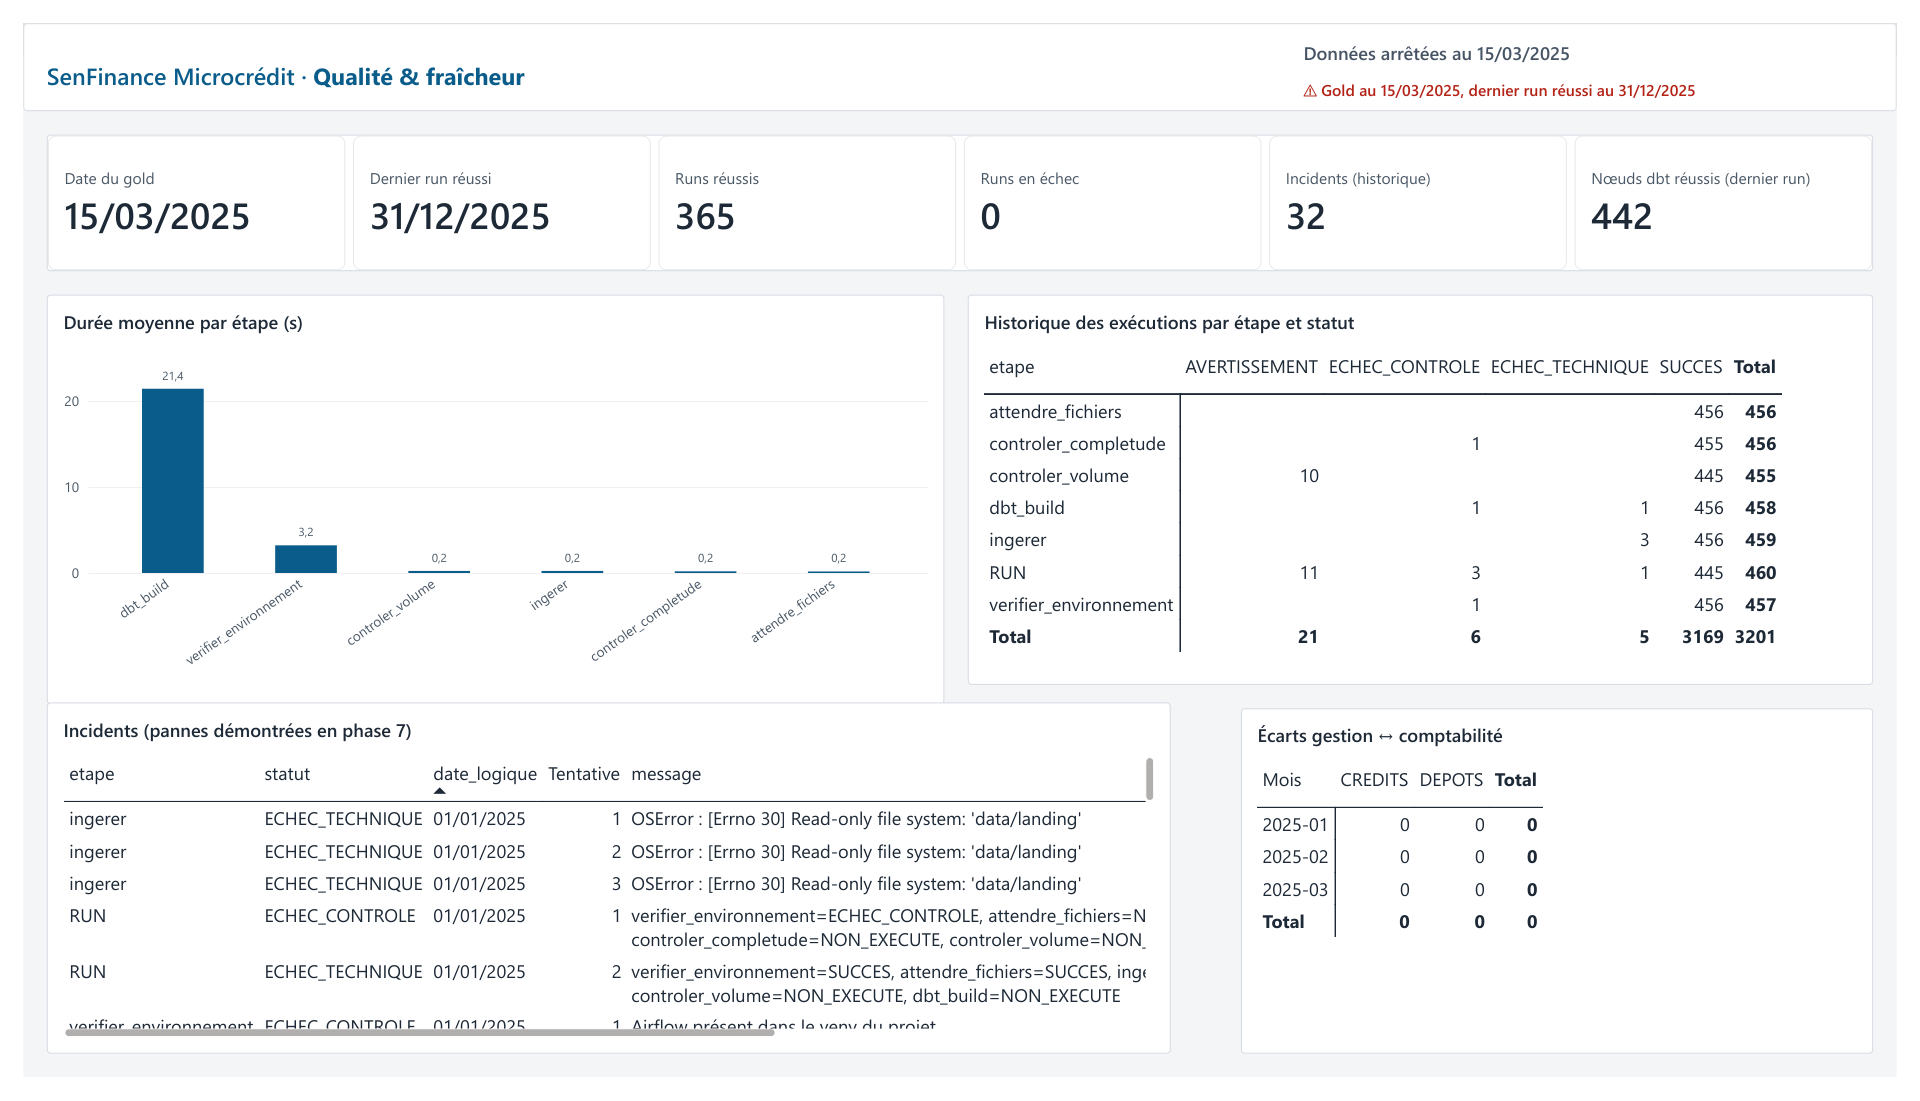

What the dashboard file says about the page in this screenshot:
{"tool":"powerbi","page":{"name":"Qualité & fraîcheur","canvas":[1920,1080],"ordinal":2},"visuals":[{"type":"shape","box":[0,0,1920,90],"z":0},{"type":"textbox","box":[24,20,1000,60],"z":1000},{"type":"cardVisual","fields":{"Data":["_Mesures.Bandeau arrêté"]},"box":[1296,10,600,40],"z":2000},{"type":"cardVisual","fields":{"Data":["_Mesures.Alerte fraîcheur"]},"box":[1296,50,600,34],"z":3000},{"type":"cardVisual","fields":{"Data":["_Mesures.Date du gold","_Mesures.Dernier run réussi","_Mesures.Runs réussis","_Mesures.Runs en échec","_Mesures.Incidents (historique)","_Mesures.Tests dbt réussis (dernier run)"]},"box":[24,114,1872,140],"z":4000},{"type":"clusteredColumnChart","title":"Durée moyenne par étape (s)","fields":{"Category":["audit_runs.etape"],"Y":["_Mesures.Durée moyenne (s)"]},"box":[24,278,920,420],"z":5000},{"type":"pivotTable","title":"Historique des exécutions par étape et statut","fields":{"Columns":["audit_runs.statut"],"Rows":["audit_runs.etape"],"Values":["_Mesures.Lignes d'audit"]},"box":[968,278,928,400],"z":6000},{"type":"tableEx","title":"Incidents (pannes démontrées en phase 7)","fields":{"Values":["audit_runs.etape","audit_runs.statut","audit_runs.date_logique","audit_runs.tentative","audit_runs.message"]},"box":[24,696,1152,360],"z":7000},{"type":"pivotTable","title":"Écarts gestion ↔ comptabilité","fields":{"Columns":["mart_rapprochements.controle"],"Rows":["dim_date.annee_mois"],"Values":["_Mesures.Écart rapprochements"]},"box":[1248,702,648,354],"z":8000}]}

Visuals, with their boxes in screenshot pixels (x1, y1, x2, y2), scaled from the page's 1920x1080 canvas onto the 1920x1101 screenshot:
shape: locate(0, 0, 1919, 92)
textbox: locate(24, 20, 1024, 82)
cardVisual - _Mesures.Bandeau arrêté: locate(1296, 10, 1896, 51)
cardVisual - _Mesures.Alerte fraîcheur: locate(1296, 51, 1896, 86)
cardVisual - _Mesures.Date du gold x _Mesures.Dernier run réussi: locate(24, 116, 1896, 259)
"Durée moyenne par étape (s)" clusteredColumnChart: locate(24, 283, 944, 712)
"Historique des exécutions par étape et statut" pivotTable: locate(968, 283, 1896, 691)
"Incidents (pannes démontrées en phase 7)" tableEx: locate(24, 710, 1176, 1077)
"Écarts gestion ↔ comptabilité" pivotTable: locate(1248, 716, 1896, 1077)
